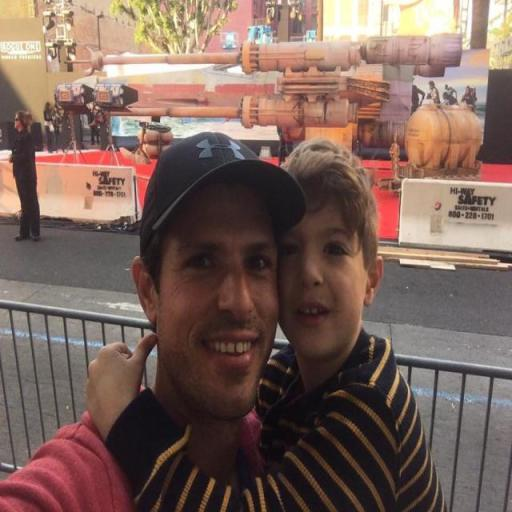Under Armour: (194, 134, 248, 162)
